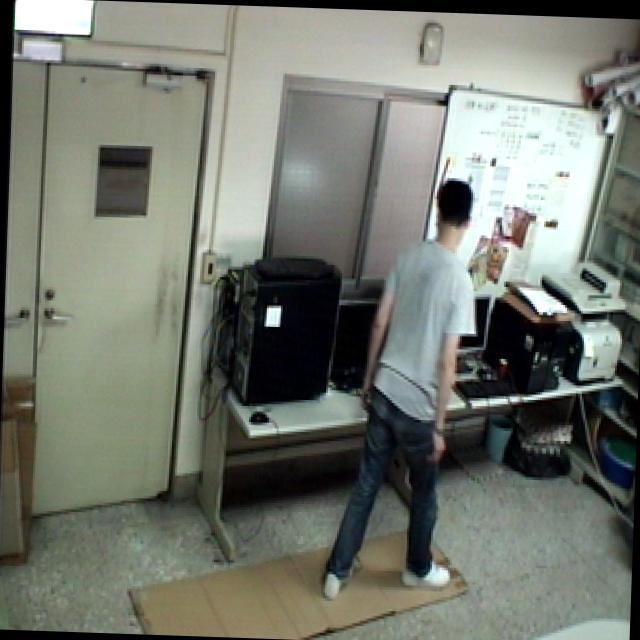stand: (318, 168, 485, 612)
